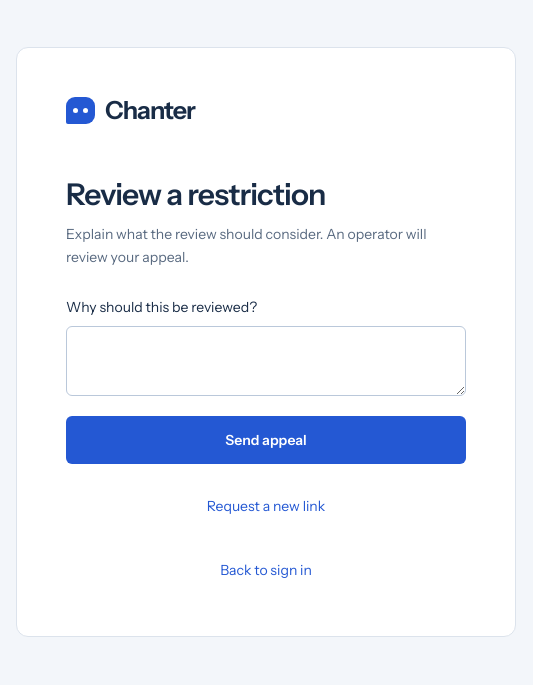
Test: keeps an unsuccessful appeal available for retry and clears the link token from the address
Type "This restriction affects the wrong resource." into the text box labelled "Why should this be reviewed?" at (266,361), box [66, 326, 466, 396]
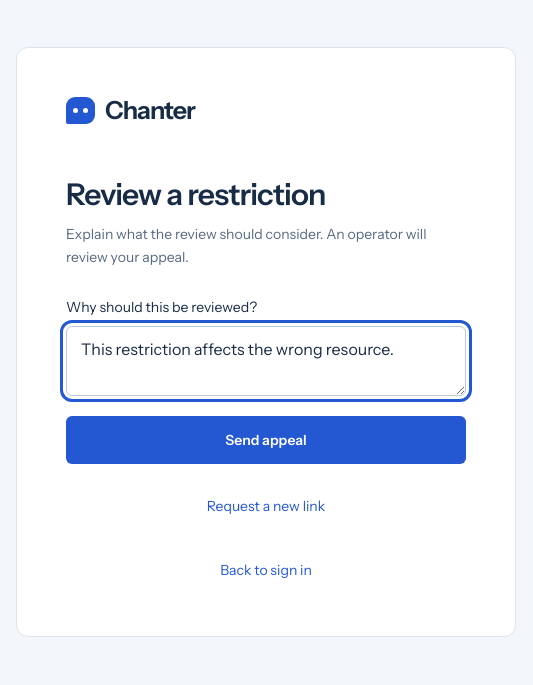
Click the button "Send appeal" at (266,440), box [66, 416, 466, 464]
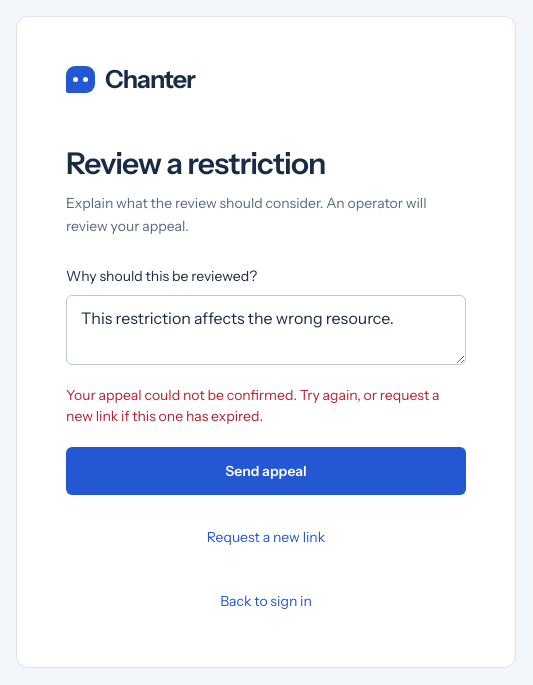
Result: the message shows "Your appeal could not be confirmed" at [66, 386, 440, 425]
Click the button "Send appeal" at (266,471), box [66, 447, 466, 495]
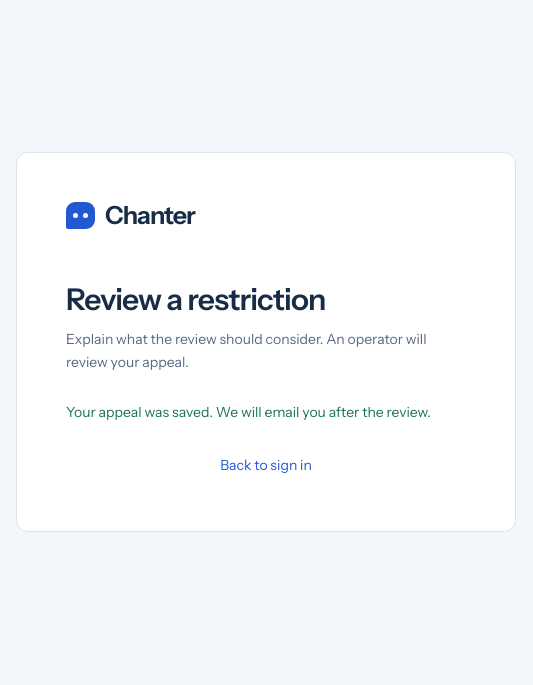
Result: the message shows "Your appeal was saved" at [66, 403, 431, 421]
